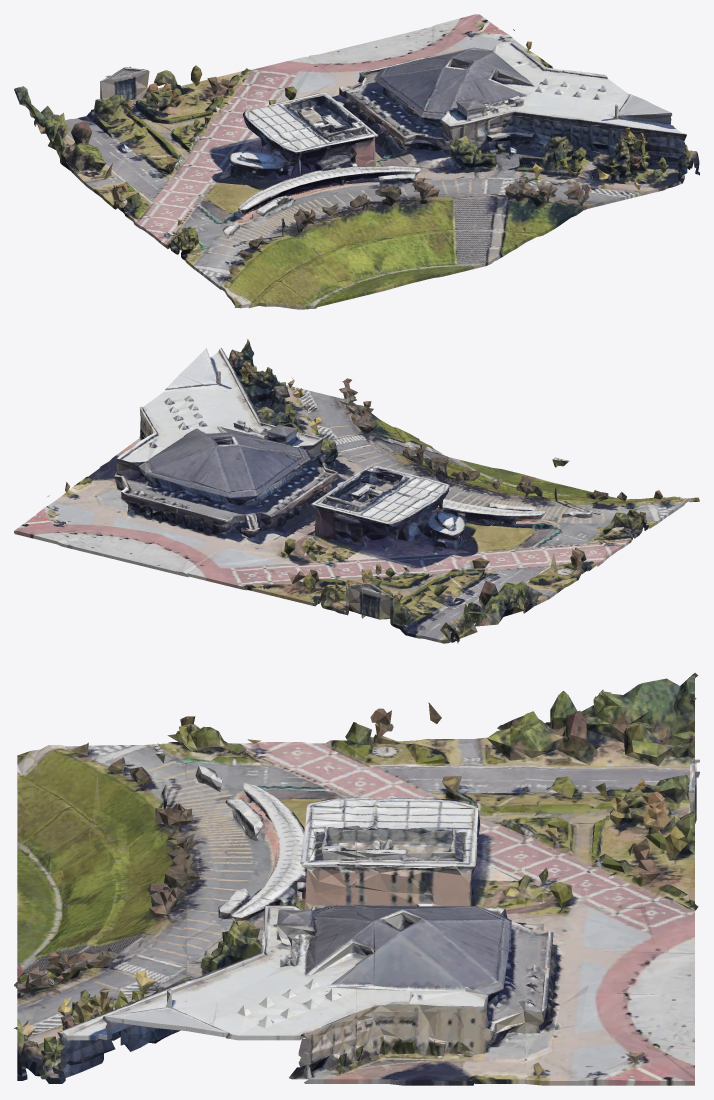
Rendered from Split16.fbx.
The picture shows the model from 3 angles, top to bottom: view 1: azimuth 30°, elevation 25°; view 2: azimuth 150°, elevation 25°; view 3: azimuth 270°, elevation 25°; orthographic projection. The views are drawn at different scales.
Parts seen in each view (by area): view 1: BuildingMesh-00120; view 2: BuildingMesh-00120; view 3: BuildingMesh-00120.
Boxes of the visible parts, x1,y1,x2,y2 form: BuildingMesh-00120: (14, 14, 699, 309); BuildingMesh-00120: (14, 339, 699, 643); BuildingMesh-00120: (14, 673, 699, 1085).
Bounding box in the file's own units: 196 × 35.3 × 162.
6 materials, 6 textured.
